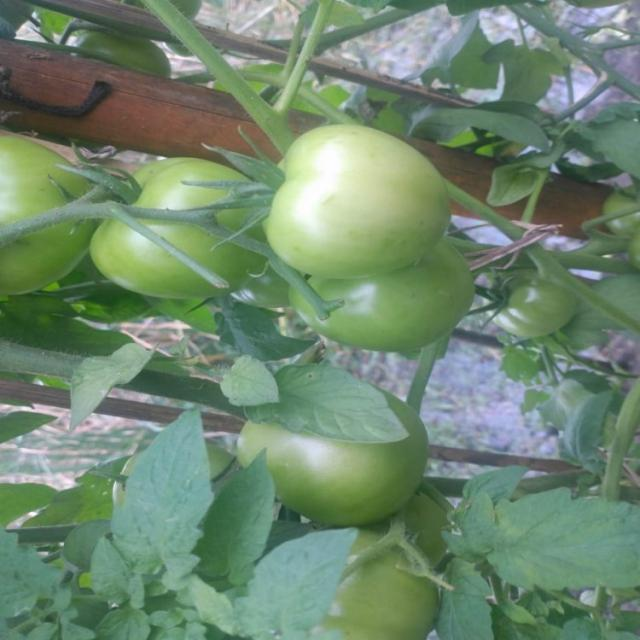tomato: (247, 358, 419, 529), (271, 121, 447, 282), (93, 154, 271, 310), (291, 231, 472, 356), (1, 128, 90, 297), (320, 522, 441, 640), (488, 241, 578, 340), (593, 181, 640, 242)
